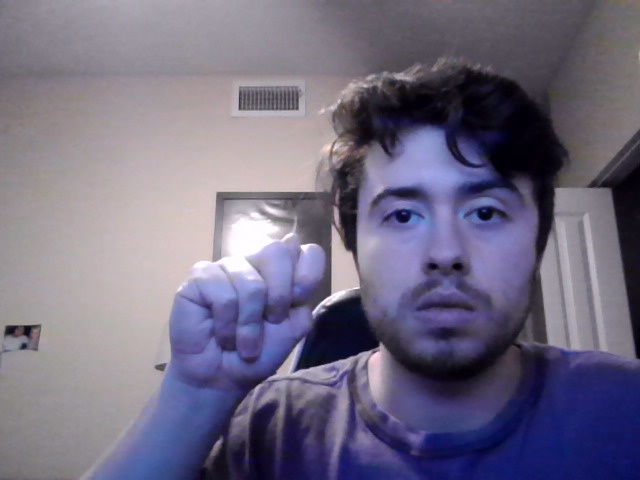t: (168, 231, 327, 414)
